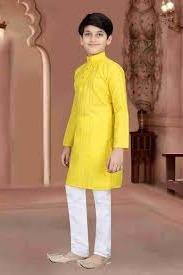Human: (39, 11, 135, 273)
